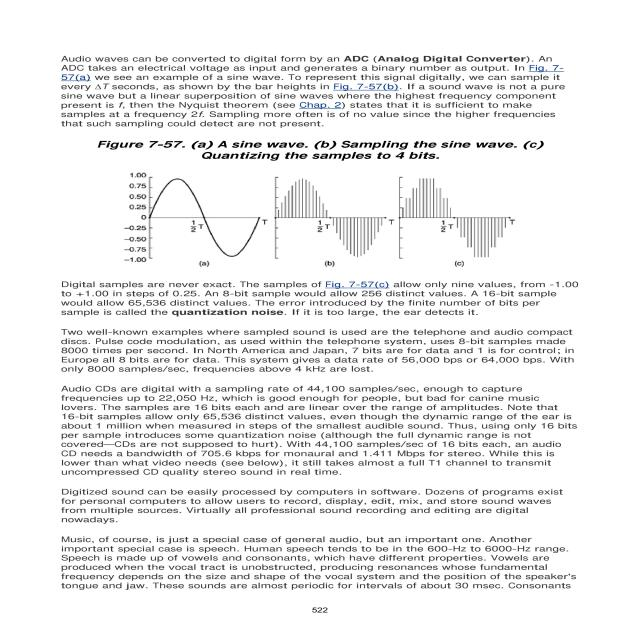diagram: (31, 128, 604, 318)
